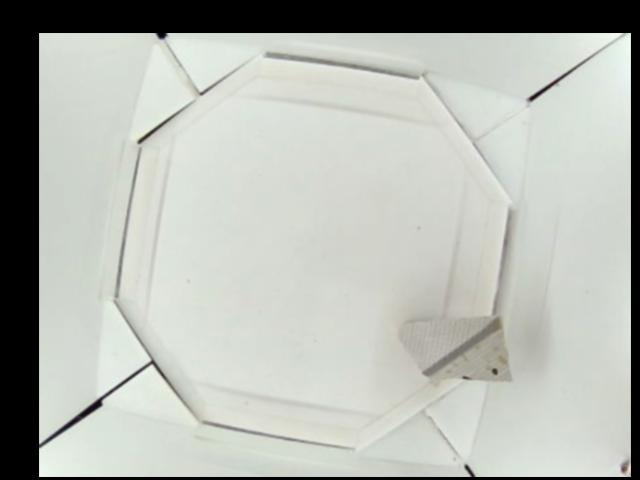China: (396, 307, 514, 385)
